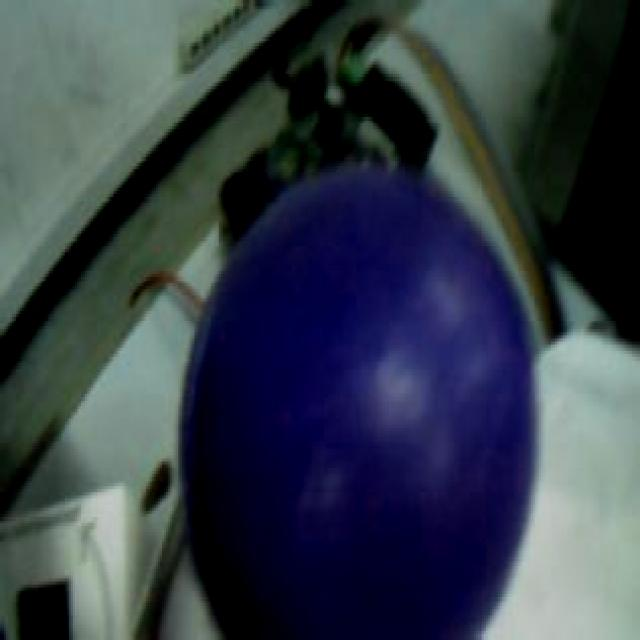BallPurple: (180, 166, 534, 640)
